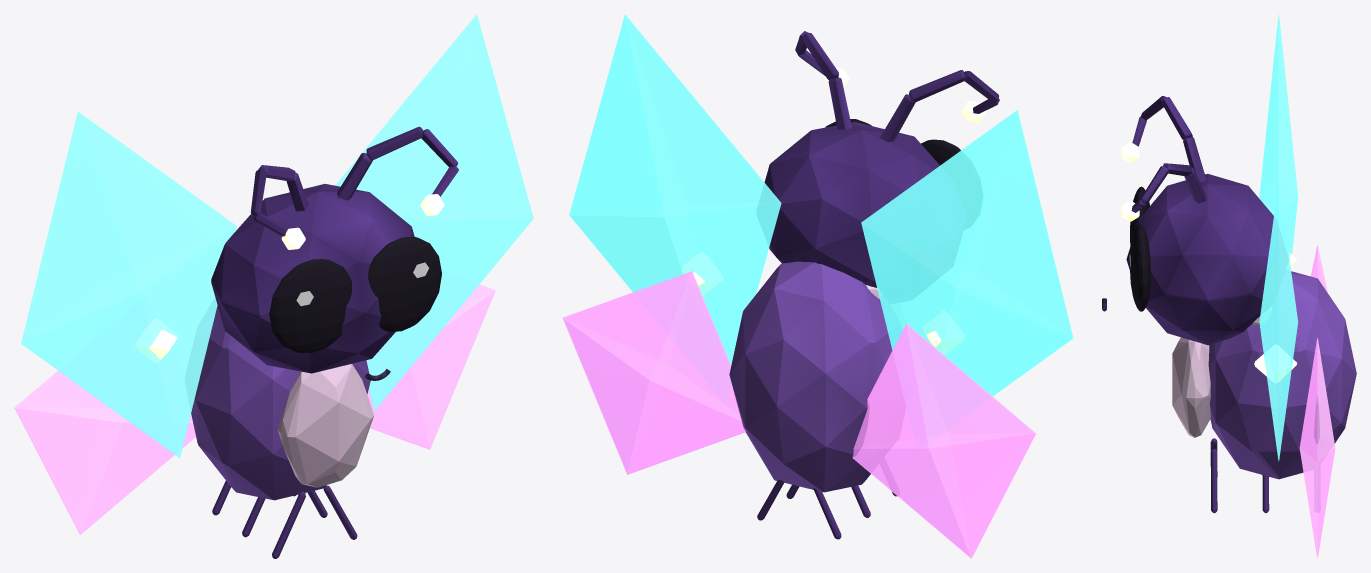
Rendered from critter_shardwing.glb.
3 renders of one model, left to right at view 1: azimuth 30°, elevation 25°; view 2: azimuth 150°, elevation 25°; view 3: azimuth 270°, elevation 25°, orthographic. The views are drawn at different scales.
Visible parts, largest first — view 1: critter_shardwing_part_3, critter_shardwing_part_1, critter_shardwing_part_6, critter_shardwing_part_0, critter_shardwing_part_4, critter_shardwing_part_7, critter_shardwing_part_9, critter_shardwing_part_5, critter_shardwing_part_2; view 2: critter_shardwing_part_6, critter_shardwing_part_3, critter_shardwing_part_0, critter_shardwing_part_4, critter_shardwing_part_7, critter_shardwing_part_1, critter_shardwing_part_9, critter_shardwing_part_5, critter_shardwing_part_8; view 3: critter_shardwing_part_1, critter_shardwing_part_0, critter_shardwing_part_6, critter_shardwing_part_3, critter_shardwing_part_7, critter_shardwing_part_8, critter_shardwing_part_9, critter_shardwing_part_2, critter_shardwing_part_4.
Part boxes in pixels (bbox=[...]): critter_shardwing_part_3: bbox=[21, 111, 236, 457]; critter_shardwing_part_1: bbox=[211, 126, 458, 380]; critter_shardwing_part_6: bbox=[335, 14, 533, 410]; critter_shardwing_part_0: bbox=[191, 305, 373, 500]; critter_shardwing_part_4: bbox=[14, 370, 195, 534]; critter_shardwing_part_7: bbox=[367, 284, 495, 449]; critter_shardwing_part_9: bbox=[212, 481, 357, 558]; critter_shardwing_part_5: bbox=[135, 318, 178, 362]; critter_shardwing_part_2: bbox=[281, 194, 444, 249]; critter_shardwing_part_6: bbox=[569, 14, 781, 365]; critter_shardwing_part_3: bbox=[861, 110, 1073, 396]; critter_shardwing_part_0: bbox=[729, 261, 892, 492]; critter_shardwing_part_4: bbox=[852, 323, 1035, 558]; critter_shardwing_part_7: bbox=[562, 271, 745, 474]; critter_shardwing_part_1: bbox=[764, 31, 999, 287]; critter_shardwing_part_9: bbox=[757, 480, 896, 539]; critter_shardwing_part_5: bbox=[922, 311, 964, 354]; critter_shardwing_part_8: bbox=[681, 252, 723, 295]; critter_shardwing_part_1: bbox=[1102, 96, 1273, 345]; critter_shardwing_part_0: bbox=[1172, 271, 1356, 479]; critter_shardwing_part_6: bbox=[1259, 183, 1298, 461]; critter_shardwing_part_3: bbox=[1259, 14, 1298, 257]; critter_shardwing_part_7: bbox=[1299, 338, 1335, 558]; critter_shardwing_part_8: bbox=[1254, 344, 1296, 382]; critter_shardwing_part_9: bbox=[1210, 438, 1269, 513]; critter_shardwing_part_2: bbox=[1121, 142, 1139, 221]; critter_shardwing_part_4: bbox=[1310, 245, 1327, 292].
Bounding box in the file's own units: 1.49 × 1.28 × 0.7414.
